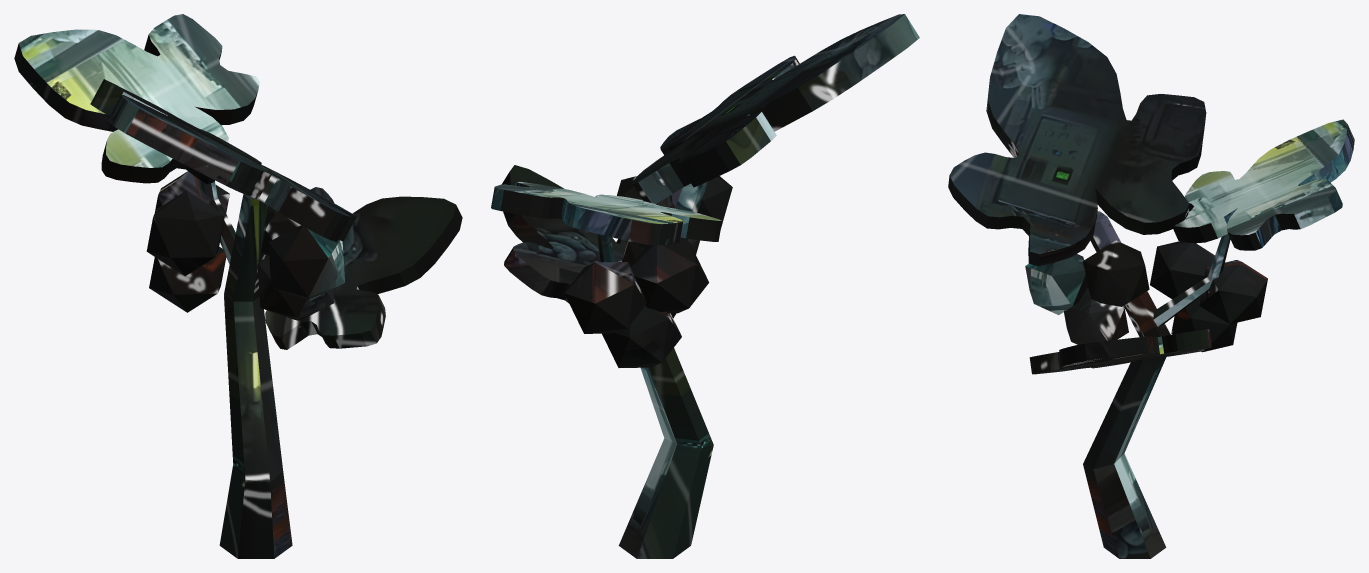
File: Grape.fbx
3 renders of one model, left to right at view 1: azimuth 30°, elevation 25°; view 2: azimuth 150°, elevation 25°; view 3: azimuth 270°, elevation 25°, orthographic. The views are drawn at different scales.
Parts seen in each view (by area): view 1: Grape; view 2: Grape; view 3: Grape.
Boxes of the visible parts, x1=… form: Grape: x1=14, y1=14, x2=462, y2=558; Grape: x1=491, y1=14, x2=919, y2=558; Grape: x1=948, y1=14, x2=1354, y2=558.
Bounding box in the file's own units: 14.41 × 19.38 × 15.66.
